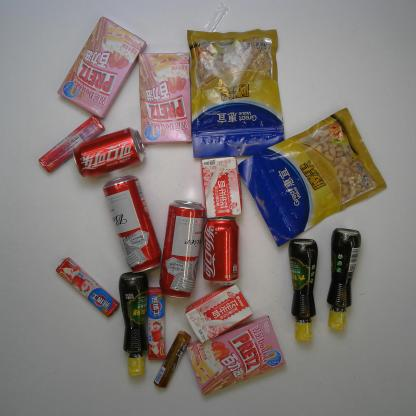Alcohol: (101, 173, 162, 274), (158, 199, 206, 300)
Candy: (55, 257, 120, 319), (38, 115, 106, 174), (152, 329, 192, 389), (147, 286, 167, 361)
Dessert: (57, 15, 148, 120), (186, 314, 287, 396), (137, 52, 193, 146)
Dried Fruit: (237, 106, 387, 249), (186, 29, 286, 160)
Drink: (71, 125, 147, 180), (202, 216, 240, 287)
Milk: (184, 280, 254, 345), (201, 156, 243, 219)
Seasoner: (325, 227, 362, 331), (118, 271, 150, 378), (286, 236, 318, 342)
